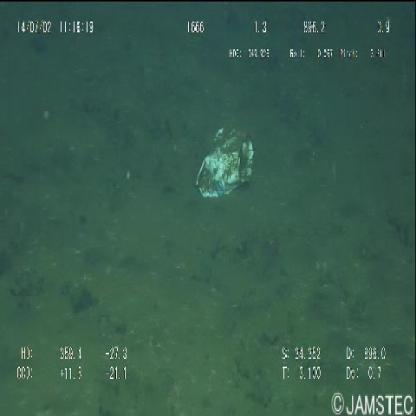Rác: (196, 128, 255, 202)
